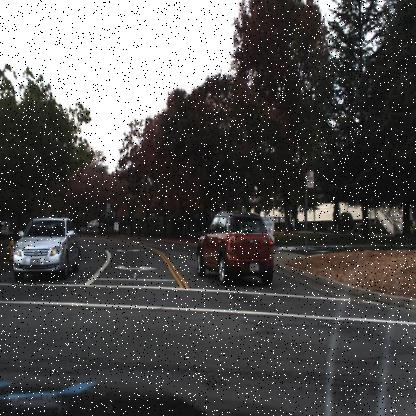car: (195, 210, 275, 289), (12, 217, 81, 290), (86, 216, 104, 231)
